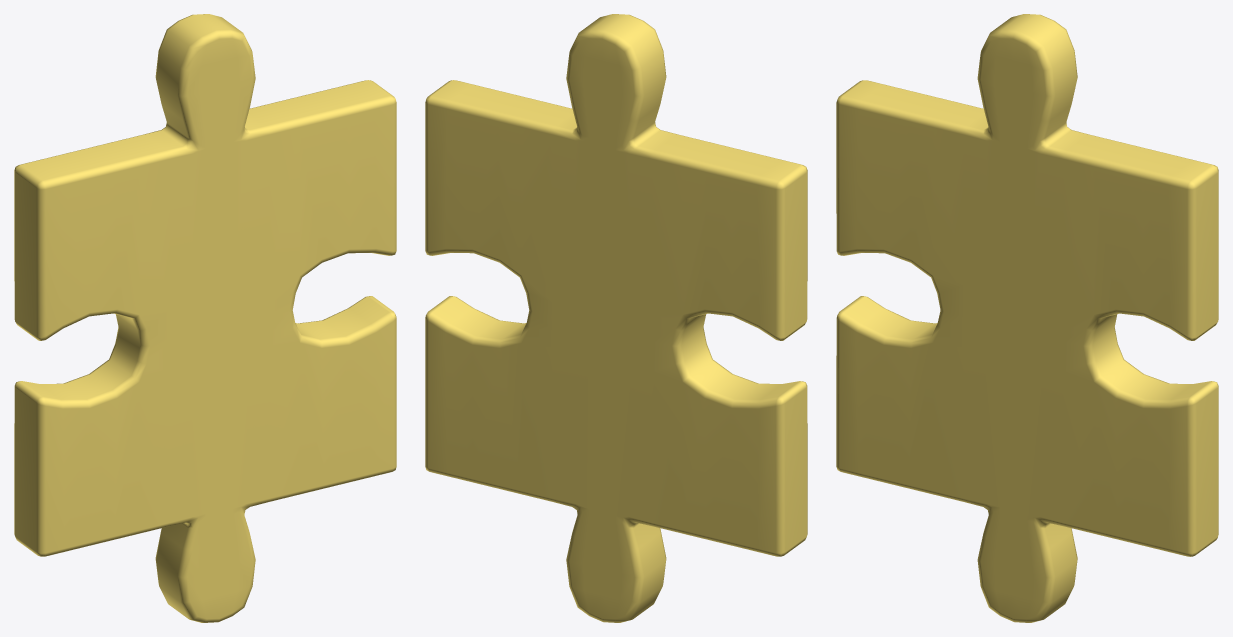
Rendered from Puzzle_4.glb.
3 views of the same model, side by side, from view 1: azimuth 30°, elevation 25°; view 2: azimuth 150°, elevation 25°; view 3: azimuth 330°, elevation 25° (orthographic).
Parts seen in each view (by area): view 1: Puzzle_4; view 2: Puzzle_4; view 3: Puzzle_4.
Part boxes in pixels (bbox=[...]): Puzzle_4: bbox=[14, 14, 396, 622]; Puzzle_4: bbox=[425, 14, 807, 622]; Puzzle_4: bbox=[836, 14, 1218, 622].
Size of the model in its own units: 0.5723 by 0.9005 by 0.0779.
Materials: 1 (1 with a texture image).
